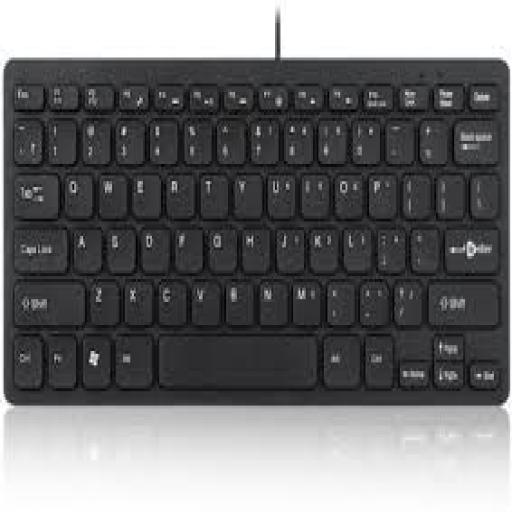KEYBOARD-2: (0, 12, 510, 406)
